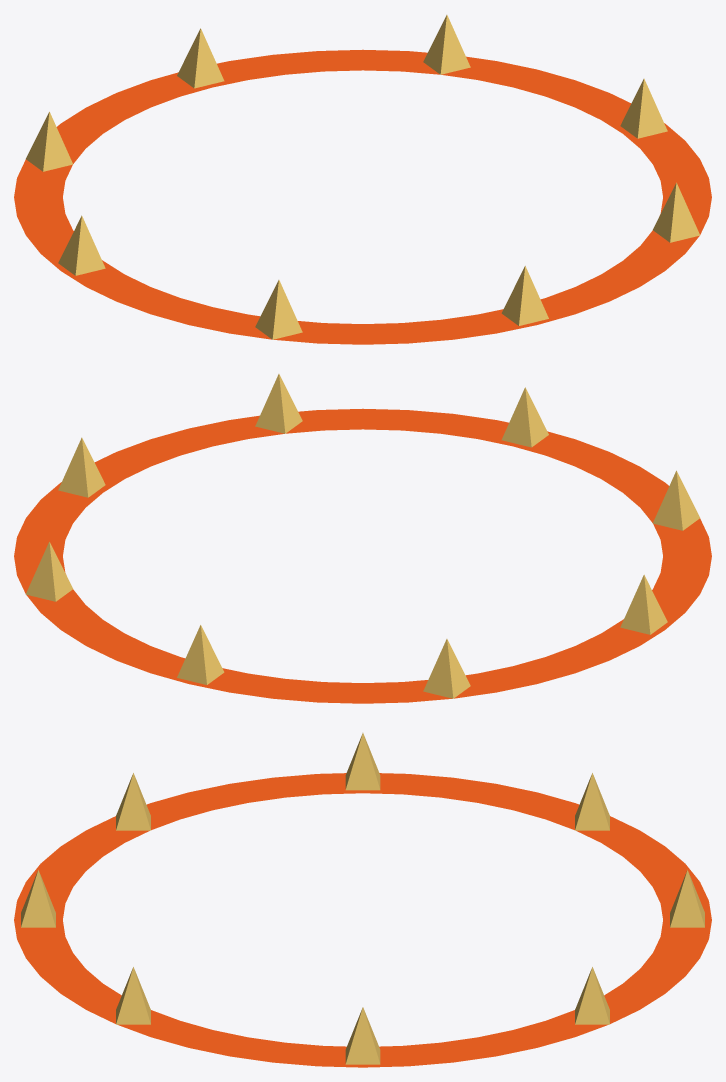
Rendered from fireball_mark.glb.
3 renders of one model, top to bottom at view 1: azimuth 30°, elevation 25°; view 2: azimuth 150°, elevation 25°; view 3: azimuth 270°, elevation 25°, orthographic.
Parts seen in each view (by area): view 1: fireball_mark; view 2: fireball_mark; view 3: fireball_mark.
Boxes of the visible parts, box(x1,y1,x2,y2) form: fireball_mark: box(14, 15, 711, 344); fireball_mark: box(14, 374, 711, 703); fireball_mark: box(14, 733, 711, 1067).
Size of the model in its own units: 2 by 0.16 by 2.
1 material, 1 textured.
